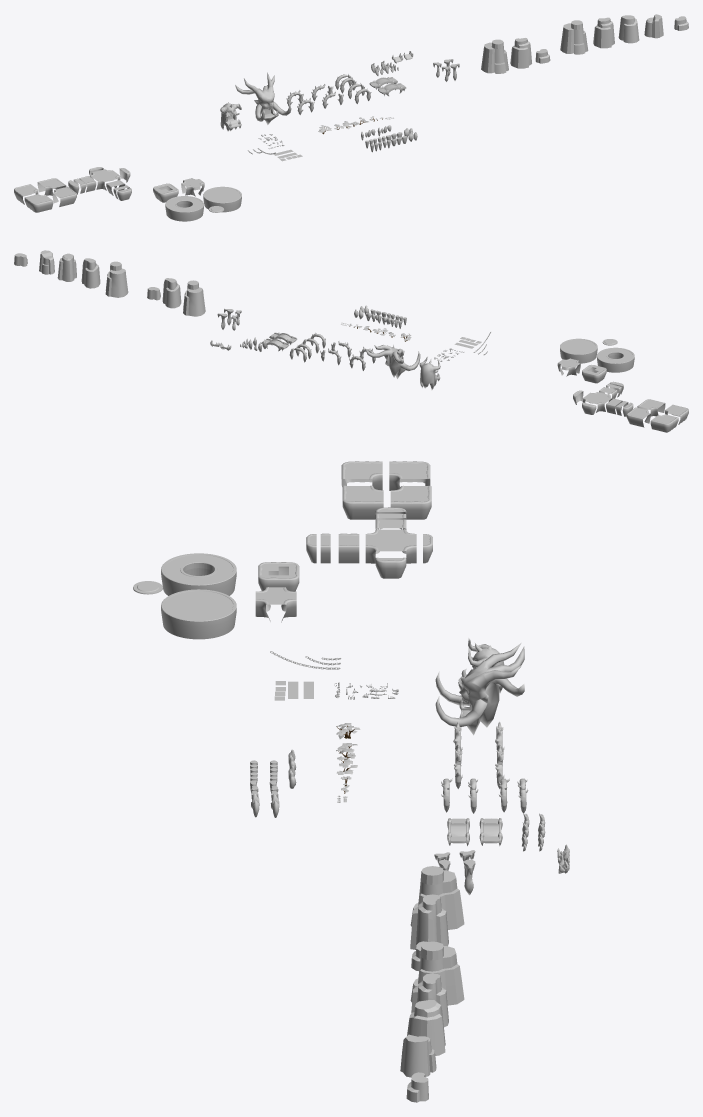
File: FantasyCaveDemon_All model.FBX
3 views of the same model, one above another, from view 1: azimuth 30°, elevation 25°; view 2: azimuth 150°, elevation 25°; view 3: azimuth 270°, elevation 25° (orthographic). The views are drawn at different scales.
Visible parts, largest first — view 1: Entrance, center_02_floor, center_01_floor, rock_cliff_01, rock_cliff_01_lava, rock_cliff_02_lava, rock_cliff_02, rock_cliff_03_lava, Exit, module_corner_convex_b, rock_cliff_04_lava, module_corner_concave (+1 smaller); view 2: center_02_floor, center_01_floor, Entrance, rock_cliff_01, rock_cliff_01_lava, rock_cliff_02, rock_cliff_02_lava, Exit, rock_cliff_03_lava, module_corner_convex_c, module_corner_convex_d, module_corner_concave (+2 smaller); view 3: Entrance, center_01_floor, center_02_floor, rock_cliff_01_lava, rock_cliff_01, rock_cliff_02, rock_cliff_03_lava, module_corner_concave, module_corner_convex_a, rock_cliff_04_lava, module_corner_convex_d, module_corner_convex_c (+2 smaller).
Part boxes in pixels (bbox=[...]): Entrance: bbox=[235, 72, 291, 124]; center_02_floor: bbox=[165, 196, 203, 221]; center_01_floor: bbox=[203, 186, 241, 212]; rock_cliff_01: bbox=[481, 39, 508, 73]; rock_cliff_01_lava: bbox=[560, 20, 588, 54]; rock_cliff_02_lava: bbox=[593, 17, 614, 48]; rock_cliff_02: bbox=[510, 38, 531, 68]; rock_cliff_03_lava: bbox=[618, 15, 639, 43]; Exit: bbox=[220, 102, 241, 131]; module_corner_convex_b: bbox=[24, 194, 53, 212]; rock_cliff_04_lava: bbox=[644, 14, 663, 38]; module_corner_concave: bbox=[89, 169, 120, 190]; center_02_floor: bbox=[597, 347, 634, 372]; center_01_floor: bbox=[560, 338, 597, 363]; Entrance: bbox=[365, 344, 420, 378]; rock_cliff_01: bbox=[183, 280, 205, 316]; rock_cliff_01_lava: bbox=[105, 261, 128, 297]; rock_cliff_02: bbox=[162, 278, 181, 308]; rock_cliff_02_lava: bbox=[81, 258, 100, 288]; Exit: bbox=[419, 356, 440, 390]; rock_cliff_03_lava: bbox=[57, 253, 76, 281]; module_corner_convex_c: bbox=[650, 414, 678, 432]; module_corner_convex_d: bbox=[626, 407, 650, 427]; module_corner_concave: bbox=[582, 392, 612, 412]; Entrance: bbox=[435, 643, 524, 735]; center_01_floor: bbox=[161, 589, 236, 639]; center_02_floor: bbox=[161, 553, 236, 595]; rock_cliff_01_lava: bbox=[410, 941, 464, 1005]; rock_cliff_01: bbox=[410, 866, 464, 929]; rock_cliff_02: bbox=[410, 894, 448, 949]; rock_cliff_03_lava: bbox=[407, 1000, 445, 1055]; module_corner_concave: bbox=[365, 529, 416, 563]; module_corner_convex_a: bbox=[342, 485, 383, 519]; rock_cliff_04_lava: bbox=[400, 1034, 436, 1077]; module_corner_convex_d: bbox=[390, 485, 431, 519]; module_corner_convex_c: bbox=[389, 461, 430, 490].
Bounding box in the file's own units: 29684 × 1762 × 8546.
